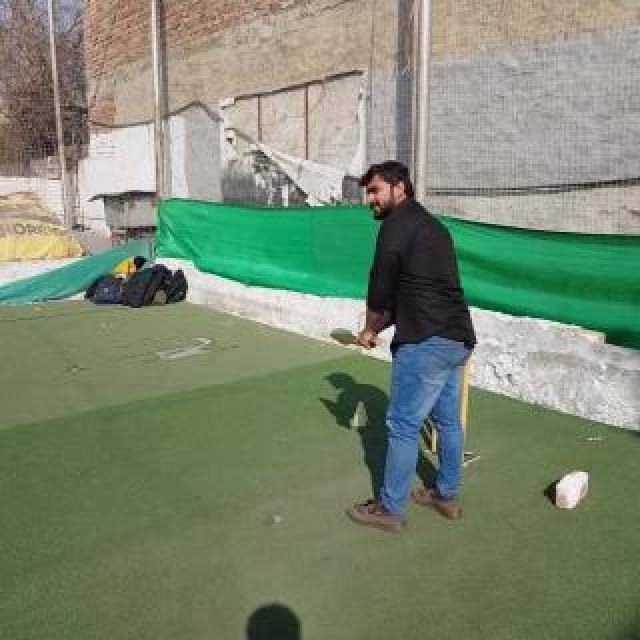bat: (329, 328, 383, 346)
